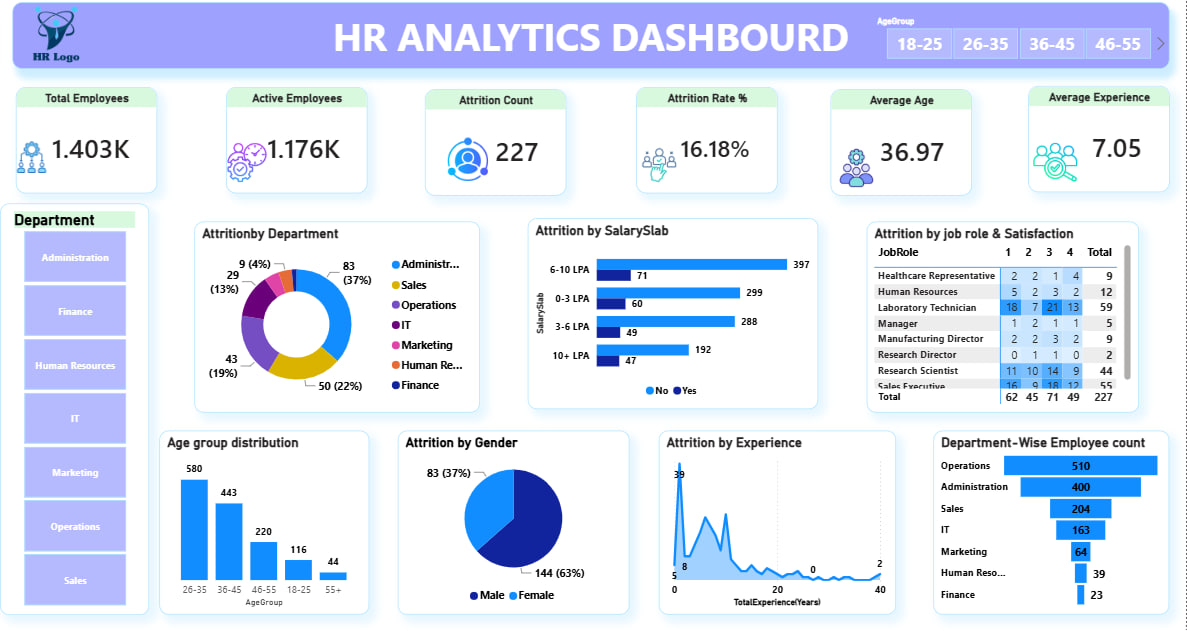

What the dashboard file says about the page in this screenshot:
{"tool":"powerbi","page":{"name":"Page 1","canvas":[1500,800],"ordinal":0},"visuals":[{"type":"textbox","box":[15.7,2.9,1462.9,84.3],"z":0},{"type":"image","box":[10,0,122.9,87.1],"z":1000},{"type":"cardVisual","title":"Total Employees","fields":{"Data":["CountNonNull(HR_Analytics-4.EmpID)"]},"box":[20,110,178.6,134.3],"z":2000},{"type":"cardVisual","title":"Active Employees","fields":{"Data":["CountNonNull(HR_Analytics-4.EmployeeCount)"]},"box":[285.7,110,178.6,134.3],"z":3000},{"type":"cardVisual","title":"Attrition Count","fields":{"Data":["Sum(HR_Analytics-4.AttritionCount)"]},"box":[537.1,112.9,178.6,134.3],"z":4000},{"type":"cardVisual","title":"Attrition Rate %","fields":{"Data":["HR_Analytics-4.Attrition Rate %"]},"box":[804.3,110,178.6,134.3],"z":5000},{"type":"cardVisual","title":"Average Age","fields":{"Data":["Avg(HR_Analytics-4.Age)"]},"box":[1050,112.9,178.6,134.3],"z":6000},{"type":"cardVisual","title":"Average Experience","fields":{"Data":["Avg(HR_Analytics-4.YearsatCompany)"]},"box":[1300,108.6,178.6,134.3],"z":7000},{"type":"image","box":[20,170,40,57.1],"z":8000},{"type":"image","box":[285.7,177.1,52.9,57.1],"z":9000},{"type":"image","box":[555.7,170,71.4,62.9],"z":10000},{"type":"image","box":[1300,177.1,68.6,55.7],"z":11000},{"type":"image","box":[811.4,181.4,44.3,55.7],"z":12000},{"type":"image","box":[1050,187.1,65.7,50],"z":13000},{"type":"donutChart","title":"Attritionby Department","fields":{"Category":["HR_Analytics-4.Department"],"Y":["Sum(HR_Analytics-4.AttritionCount)"]},"box":[245.7,280,361.4,241.4],"z":14000},{"type":"clusteredBarChart","title":"Attrition by SalarySlab","fields":{"Category":["HR_Analytics-4.SalarySlab"],"Y":["CountNonNull(HR_Analytics-4.EmpID)"],"Series":["HR_Analytics-4.Attrition"]},"box":[667.1,275.7,367.1,241.4],"z":15000},{"type":"pivotTable","title":"Attrition by job role & Satisfaction","fields":{"Values":["Sum(HR_Analytics-4.AttritionCount)"],"Columns":["HR_Analytics-4.JobSatisfaction"],"Rows":["HR_Analytics-4.JobRole"]},"box":[1095.7,280,344.3,241.4],"z":16000},{"type":"columnChart","title":"Age group distribution","fields":{"Category":["HR_Analytics-4.AgeGroup"],"Y":["Sum(HR_Analytics-4.EmployeeCount)"]},"box":[201.4,544.3,265.7,232.9],"z":17000},{"type":"pieChart","title":"Attrition by Gender","fields":{"Category":["HR_Analytics-4.Gender"],"Y":["Sum(HR_Analytics-4.AttritionCount)"]},"box":[502.9,544.3,292.9,232.9],"z":18000},{"type":"areaChart","title":"Attrition by Experience","fields":{"Category":["HR_Analytics-4.TotalExperience(Years)"],"Y":["Sum(HR_Analytics-4.AttritionCount)"]},"box":[832.9,544.3,300,232.9],"z":19000},{"type":"funnel","title":"Department-Wise Employee  count","fields":{"Category":["HR_Analytics-4.Department"],"Y":["CountNonNull(HR_Analytics-4.EmpID)"]},"box":[1180,544.3,298.6,232.9],"z":20000},{"type":"slicer","fields":{"Values":["HR_Analytics-4.Department"]},"box":[0,257.1,188.6,520],"z":21000},{"type":"slicer","fields":{"Values":["HR_Analytics-4.AgeGroup"]},"box":[1095.7,15.7,382.9,61.4],"z":22000}]}

Visuals, with their boxes in screenshot pixels (x1, y1, x2, y2), scaled from the page's 1500x800 canvas onto the 1187x631 screenshot:
textbox: 12,2,1170,69
image: 8,0,105,69
"Total Employees" cardVisual: 16,87,157,193
"Active Employees" cardVisual: 226,87,367,193
"Attrition Count" cardVisual: 425,89,566,195
"Attrition Rate %" cardVisual: 636,87,778,193
"Average Age" cardVisual: 831,89,972,195
"Average Experience" cardVisual: 1029,86,1170,192
image: 16,134,47,179
image: 226,140,268,185
image: 440,134,496,184
image: 1029,140,1083,184
image: 642,143,677,187
image: 831,148,883,187
"Attritionby Department" donutChart: 194,221,480,411
"Attrition by SalarySlab" clusteredBarChart: 528,217,818,408
"Attrition by job role & Satisfaction" pivotTable: 867,221,1140,411
"Age group distribution" columnChart: 159,429,370,613
"Attrition by Gender" pieChart: 398,429,630,613
"Attrition by Experience" areaChart: 659,429,897,613
"Department-Wise Employee  count" funnel: 934,429,1170,613
slicer - HR_Analytics-4.Department: 0,203,149,613
slicer - HR_Analytics-4.AgeGroup: 867,12,1170,61
